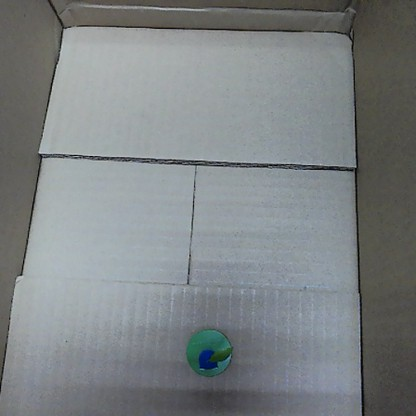leafairy: (185, 323, 236, 379)
